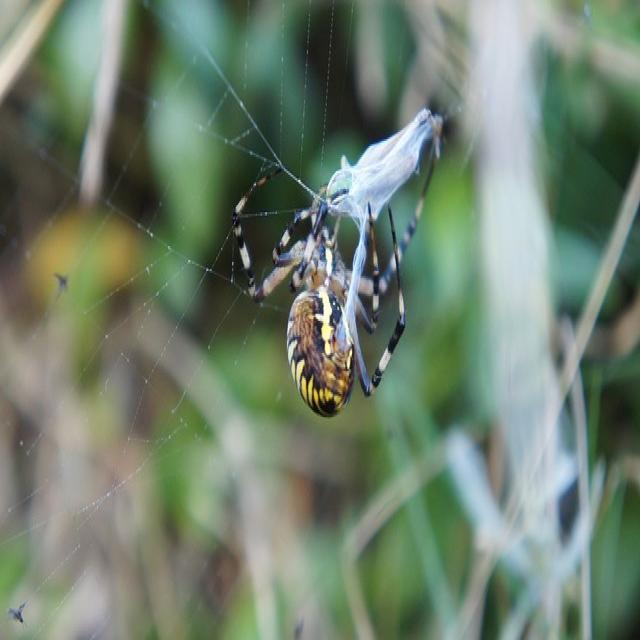spyder: (232, 170, 361, 416), (356, 118, 439, 394)
